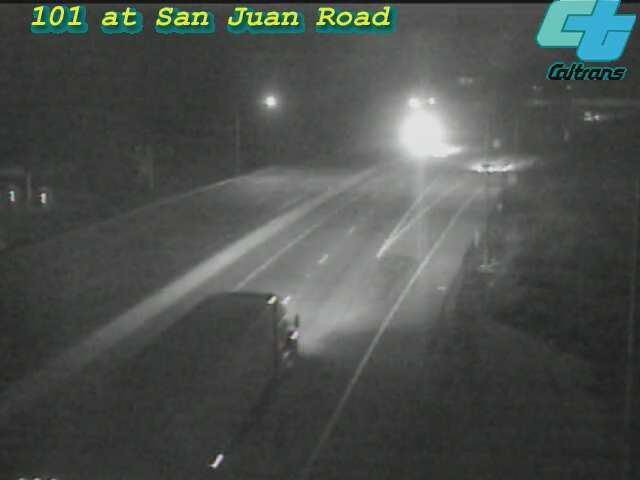vehicle: (152, 313, 262, 423), (445, 128, 525, 208), (393, 107, 443, 157), (568, 91, 618, 141), (423, 123, 473, 173)
